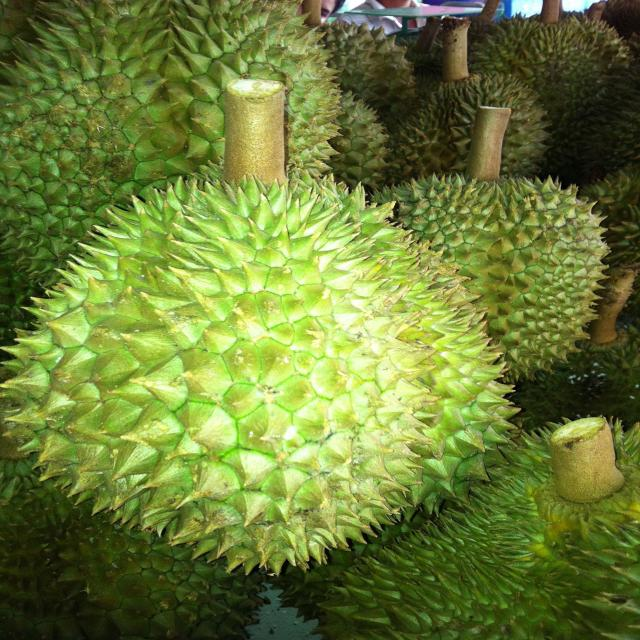immature: (0, 175, 510, 567)
